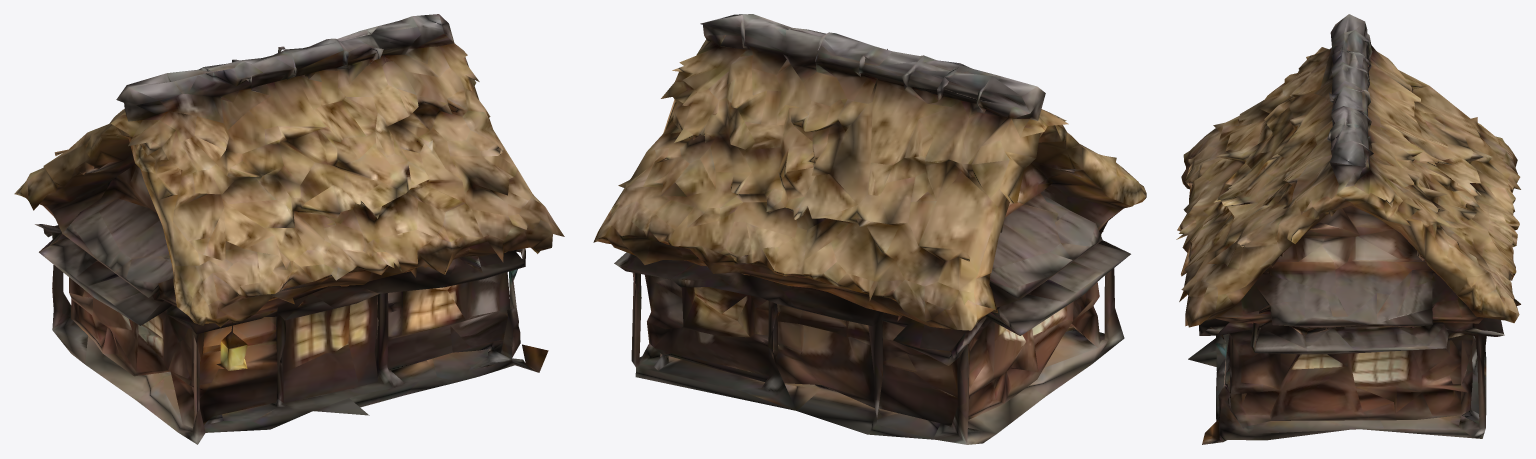
Rendered from y_machiya2.glb.
3 views of the same model, side by side, from view 1: azimuth 30°, elevation 25°; view 2: azimuth 150°, elevation 25°; view 3: azimuth 270°, elevation 25° (orthographic). The views are drawn at different scales.
Parts seen in each view (by area): view 1: tripo_node_c13df3f6-11ac-487a-863e-27d272ac2414; view 2: tripo_node_c13df3f6-11ac-487a-863e-27d272ac2414; view 3: tripo_node_c13df3f6-11ac-487a-863e-27d272ac2414.
Boxes of the visible parts, <box> form: tripo_node_c13df3f6-11ac-487a-863e-27d272ac2414: <box>14,14,564,444</box>; tripo_node_c13df3f6-11ac-487a-863e-27d272ac2414: <box>593,14,1146,444</box>; tripo_node_c13df3f6-11ac-487a-863e-27d272ac2414: <box>1176,14,1520,444</box>.
Bounding box in the file's own units: 0.9724 × 0.7214 × 0.7942.
Materials: 1 (1 with a texture image).
